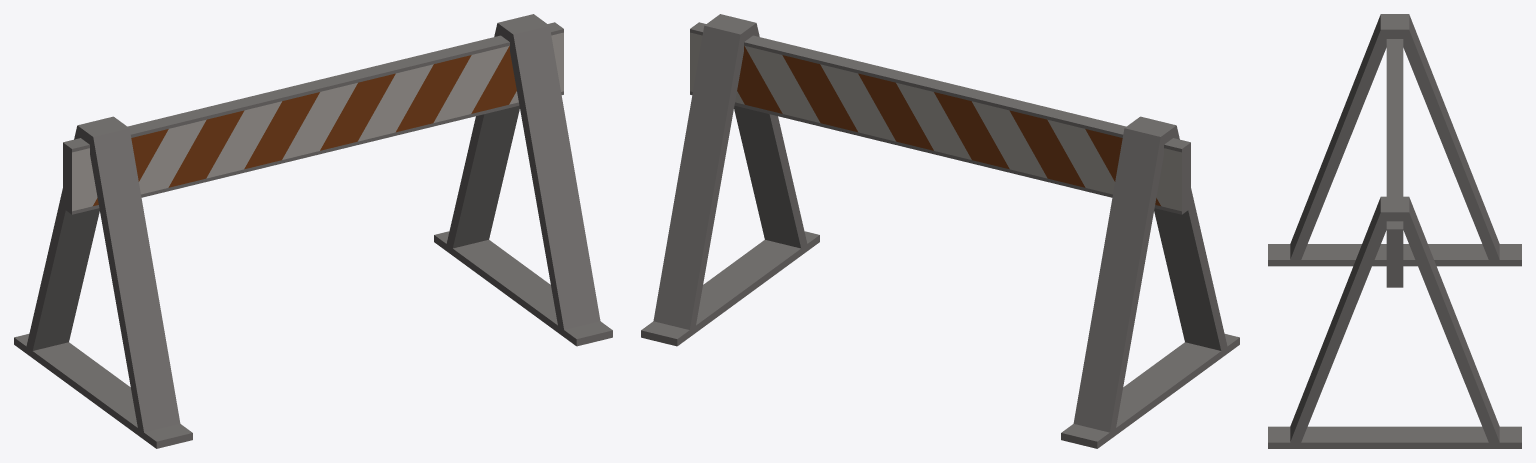
File: trafficbarrier-2.glb
The picture shows the model from 3 angles, left to right: view 1: azimuth 30°, elevation 25°; view 2: azimuth 150°, elevation 25°; view 3: azimuth 270°, elevation 25°; orthographic projection. The views are drawn at different scales.
Visible parts, largest first — view 1: TrafficBarrier_2; view 2: TrafficBarrier_2; view 3: TrafficBarrier_2.
Boxes of the visible parts, box(x1,y1,x2,y2) form: TrafficBarrier_2: box(14, 14, 612, 448); TrafficBarrier_2: box(641, 14, 1239, 448); TrafficBarrier_2: box(1268, 14, 1521, 448).
Bounding box in the file's own units: 1.56 × 0.8023 × 0.7801.
